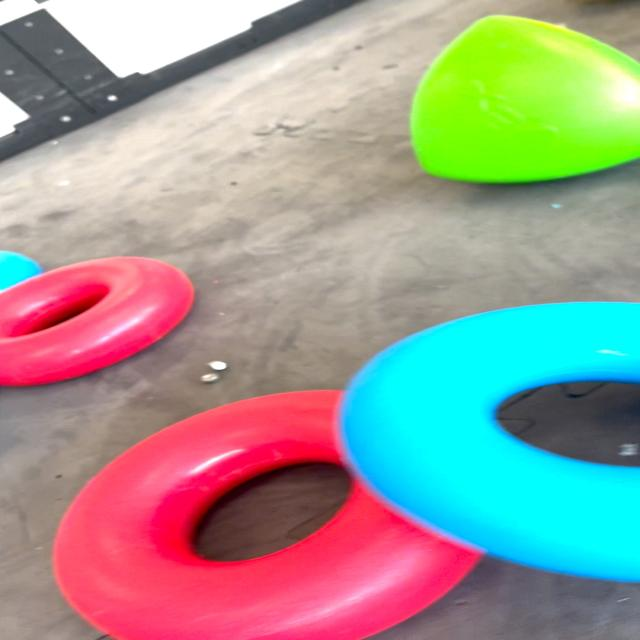Blue-Ring: (340, 302, 640, 581)
Red-Ring: (53, 390, 480, 640), (0, 256, 193, 386)
